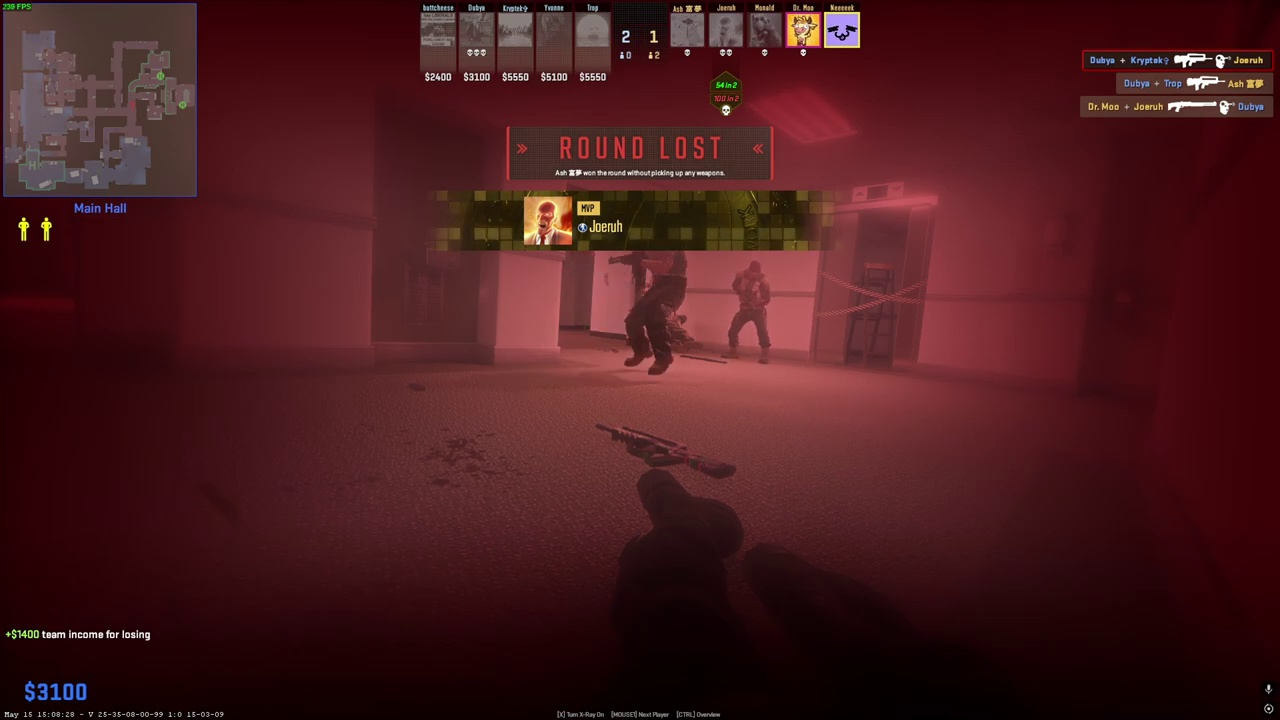Terrorist: (625, 251, 686, 377), (726, 260, 773, 359)
